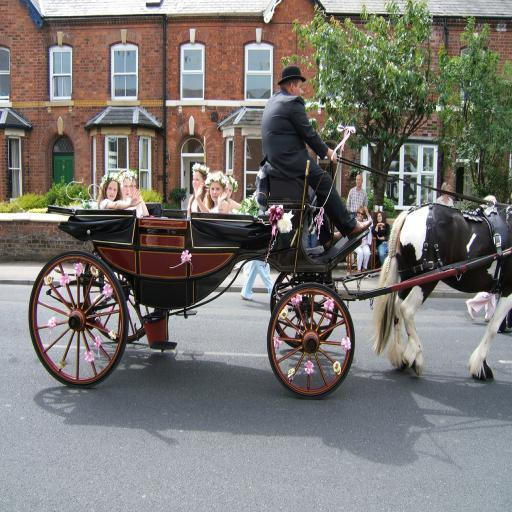horse: (368, 198, 512, 380)
